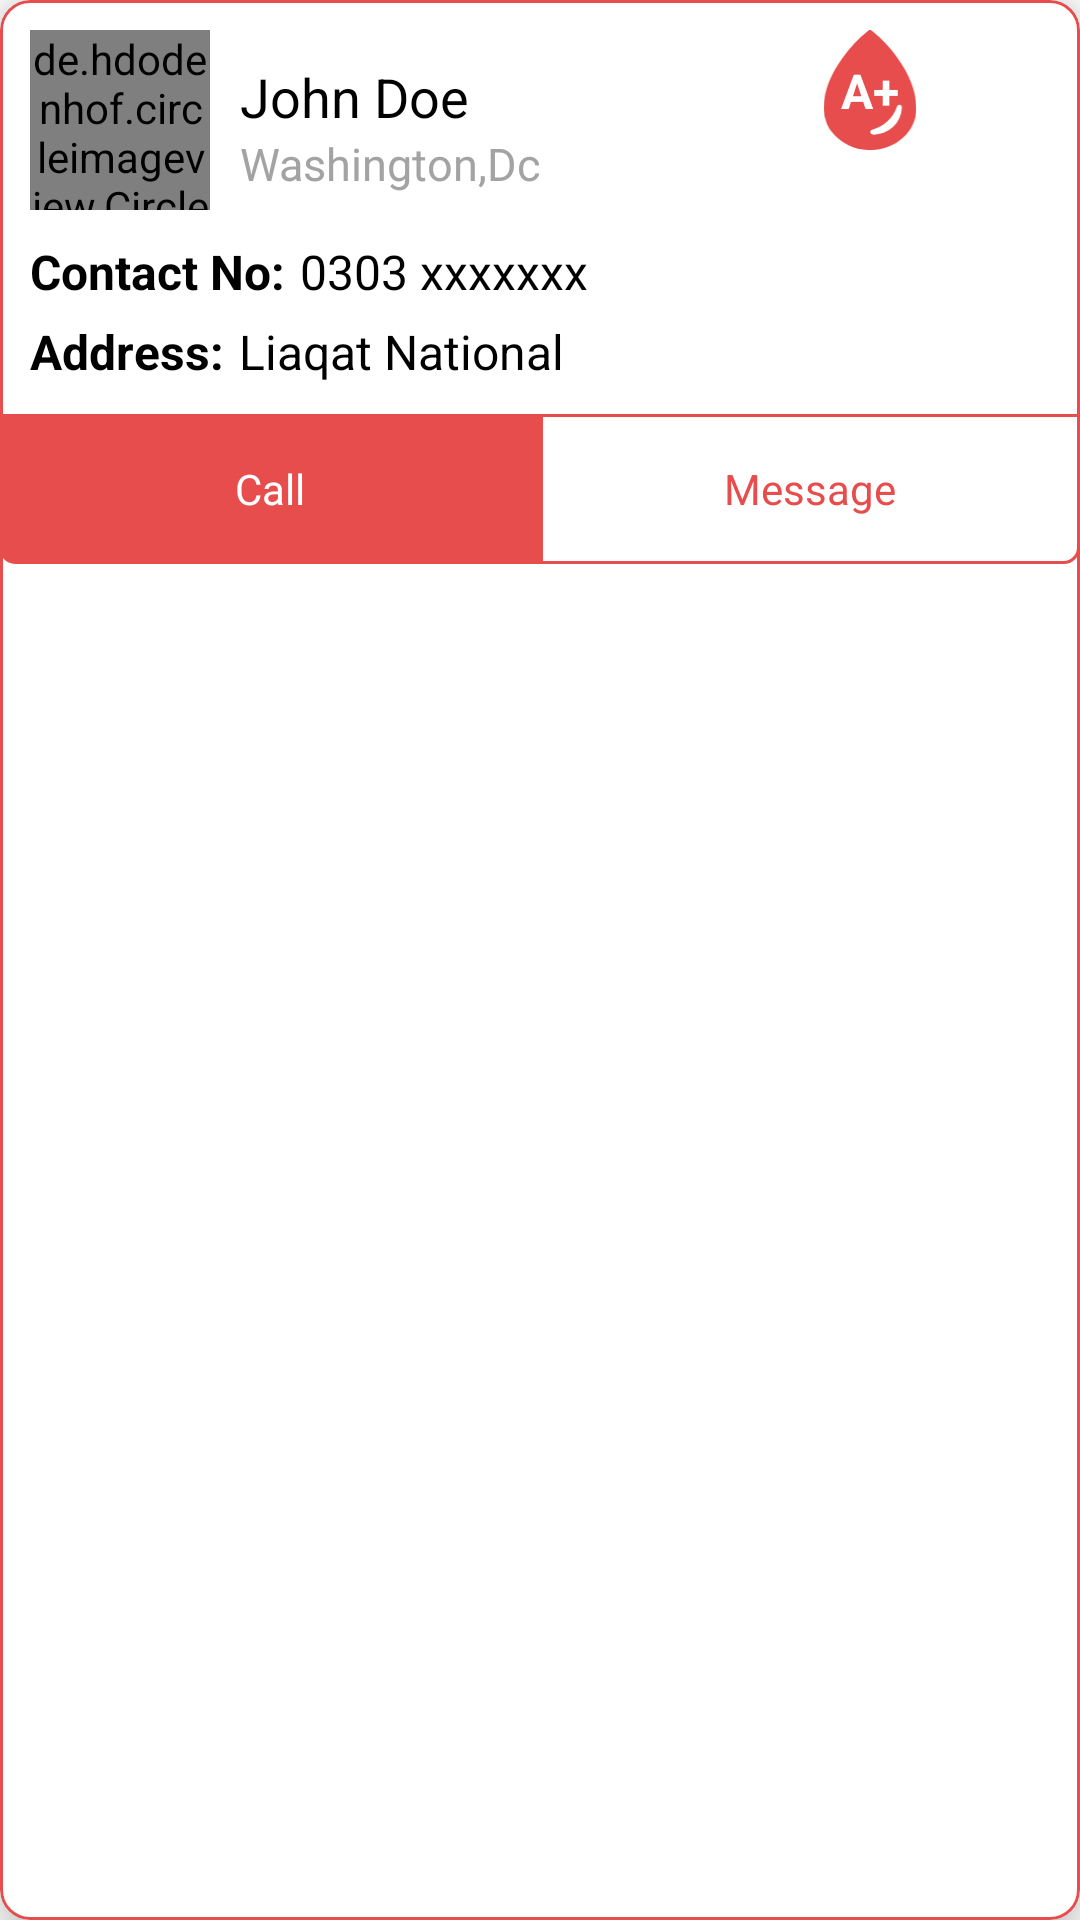

Locate icon controls on the screen. Image size 1080px x 1920px, boxes as bbox=[x1, y1, x2, y2].
blood: bbox=[824, 30, 916, 150]
